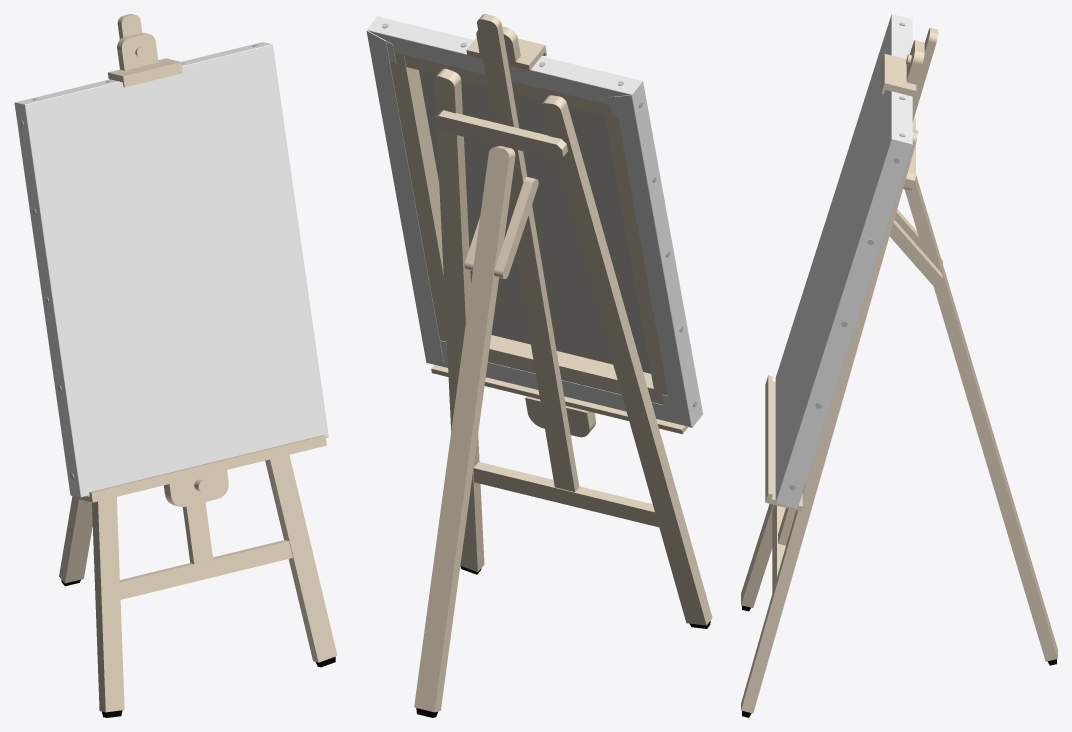
File: 1004_canvas_easel.glb
The picture shows the model from 3 angles, left to right: view 1: azimuth 30°, elevation 25°; view 2: azimuth 150°, elevation 25°; view 3: azimuth 270°, elevation 25°; orthographic projection. The views are drawn at different scales.
Visible parts, largest first — view 1: canvas, Body1, under, top, Body2; view 2: canvas, Body1, Body2, under, Body3, top; view 3: canvas, Body1, Body2, top, under, Body3.
Boxes of the visible parts, box(x1,y1,x2,y2) form: canvas: box(14, 42, 328, 497); Body1: box(92, 14, 337, 717); under: box(75, 435, 326, 506); top: box(108, 32, 182, 87); Body2: box(59, 496, 92, 586); canvas: box(366, 16, 702, 427); Body1: box(434, 14, 712, 628); Body2: box(414, 145, 515, 717); under: box(431, 364, 688, 437); Body3: box(464, 177, 538, 278); top: box(466, 26, 546, 70); canvas: box(775, 14, 913, 508); Body1: box(741, 28, 938, 717); Body2: box(904, 175, 1057, 665); top: box(881, 40, 924, 96); under: box(765, 375, 802, 511); Body3: box(889, 209, 942, 286).
Size of the model in its own units: 0.737 by 1.73 by 0.7842.
